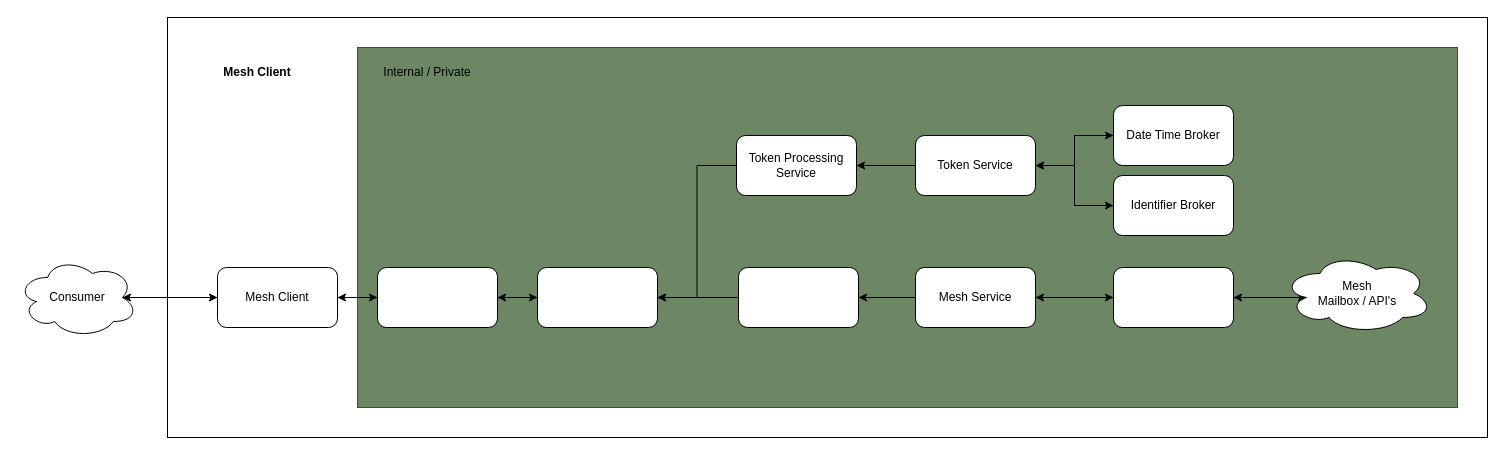
This 1505x455 diagram has some shape labels left out. The centre of each missing label's shape, as x and y in pixels:
Mailbox Client: the point at 437,297
Mesh Broker: the point at 1173,297
Mesh Orchestration: the point at 597,297
Mesh Processing Service: the point at 798,297
